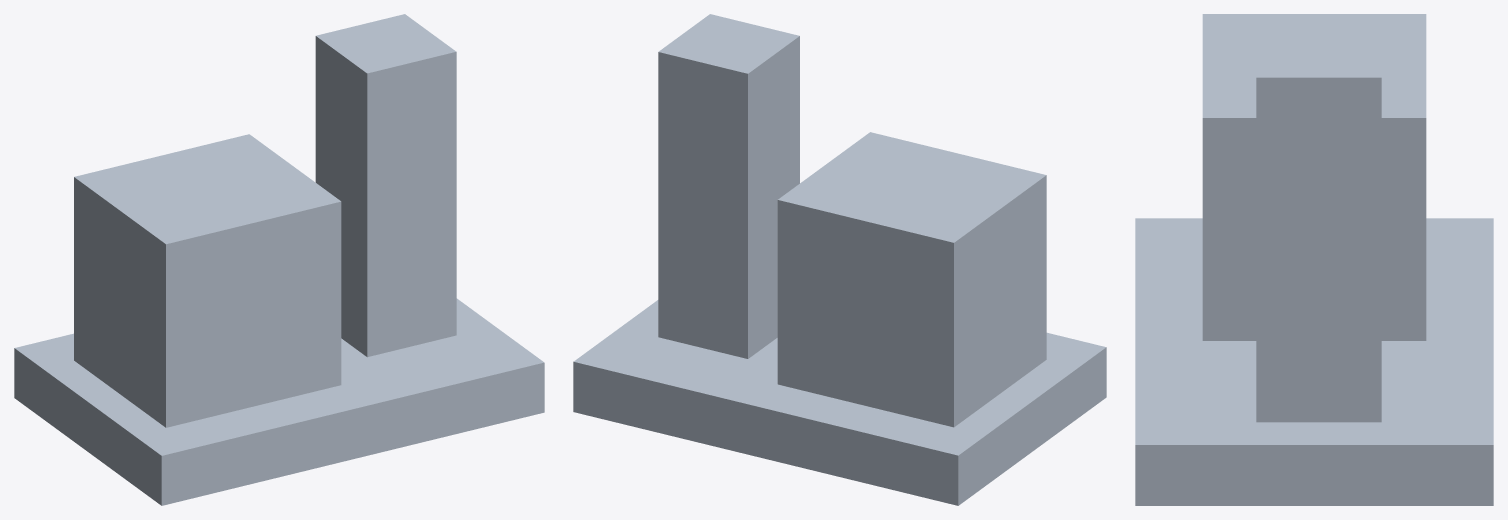
The model's file is Spanneinheit_3D.glb.
3 renders of one model, left to right at view 1: azimuth 30°, elevation 25°; view 2: azimuth 150°, elevation 25°; view 3: azimuth 270°, elevation 25°, orthographic. The views are drawn at different scales.
Parts seen in each view (by area): view 1: Spanneinheit; view 2: Spanneinheit; view 3: Spanneinheit.
Boxes of the visible parts, x1,y1,x2,y2 form: Spanneinheit: (14,14,544,505); Spanneinheit: (573,14,1106,505); Spanneinheit: (1135,14,1493,505).
Bounding box in the file's own units: 1.2 × 1 × 0.8.
